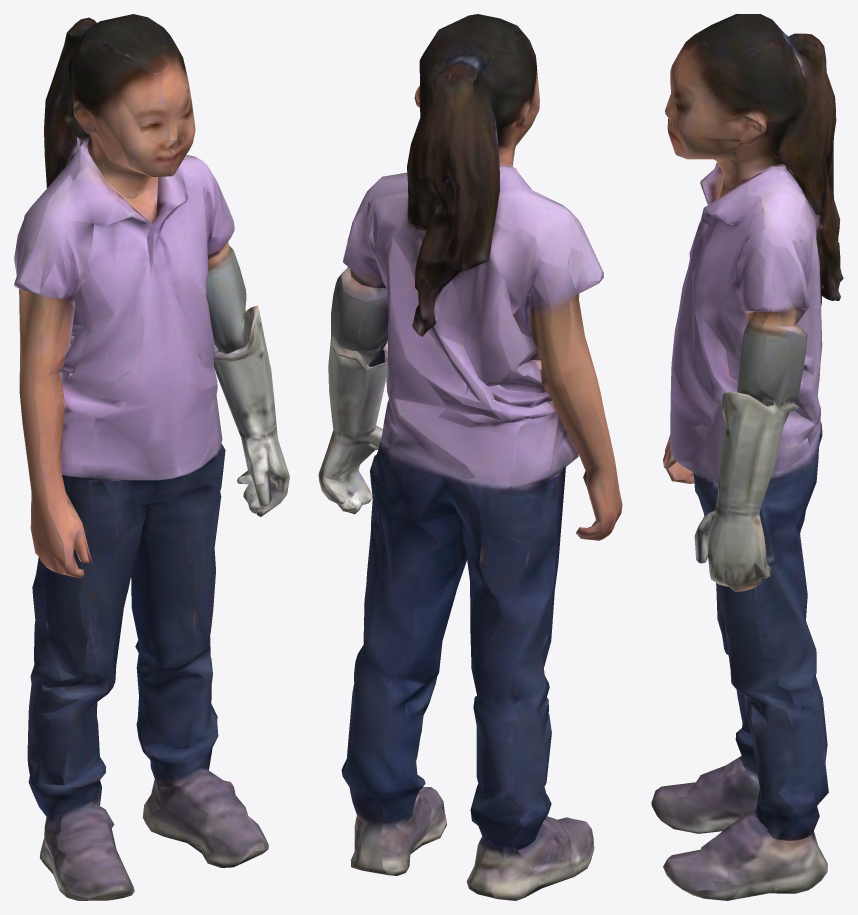
File: person_20.glb
The picture shows the model from 3 angles, left to right: view 1: azimuth 30°, elevation 25°; view 2: azimuth 150°, elevation 25°; view 3: azimuth 270°, elevation 25°; orthographic projection. The views are drawn at different scales.
Parts seen in each view (by area): view 1: Human_Rig; view 2: Human_Rig; view 3: Human_Rig.
Boxes of the visible parts, x1,y1,x2,y2 form: Human_Rig: (14,14,289,900); Human_Rig: (318,14,622,900); Human_Rig: (651,14,843,900).
Size of the model in its own units: 0.442 by 1.32 by 0.2779.
Materials: 1 (1 with a texture image).
